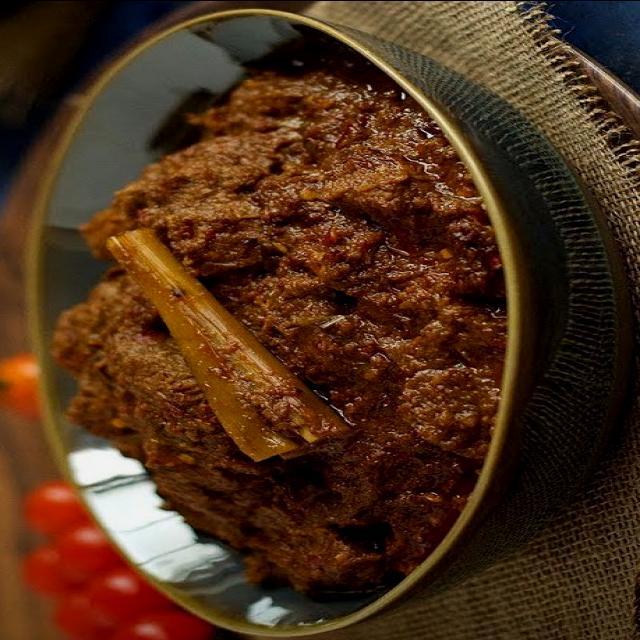rendang: (50, 48, 551, 602)
